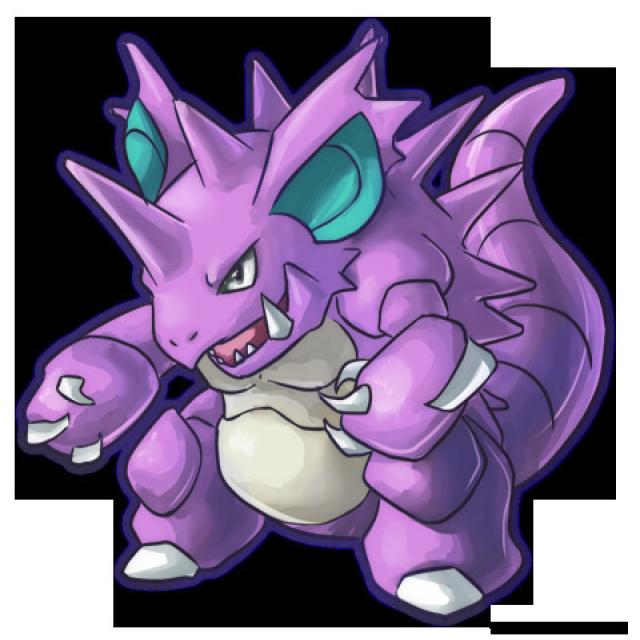Nidoking: (114, 43, 537, 589)
